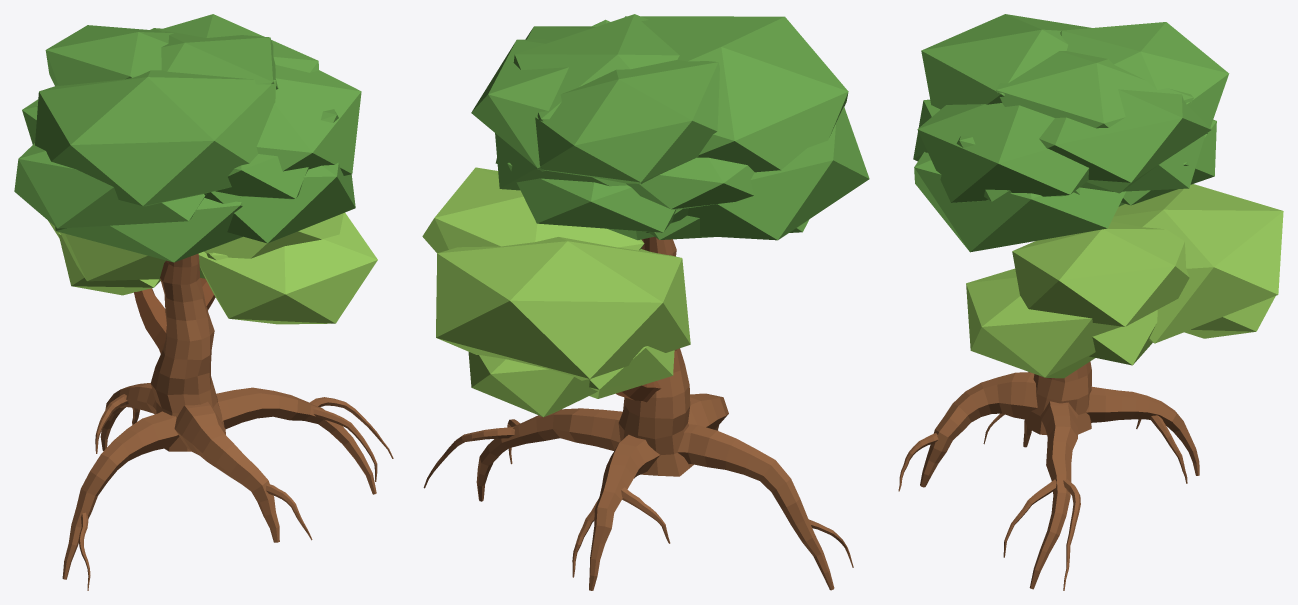
Rendered from tree4.fbx.
The picture shows the model from 3 angles, left to right: view 1: azimuth 30°, elevation 25°; view 2: azimuth 150°, elevation 25°; view 3: azimuth 270°, elevation 25°; orthographic projection. The views are drawn at different scales.
Parts seen in each view (by area): view 1: TreeLeaves, TreeWood; view 2: TreeLeaves, TreeWood; view 3: TreeLeaves, TreeWood.
Boxes of the visible parts, x1,y1,x2,y2 form: TreeLeaves: [14, 14, 377, 324]; TreeWood: [62, 253, 393, 590]; TreeLeaves: [422, 14, 869, 417]; TreeWood: [423, 236, 853, 590]; TreeLeaves: [913, 14, 1283, 378]; TreeWood: [898, 361, 1199, 590].
Bounding box in the file's own units: 5.56 × 6.76 × 5.12.
